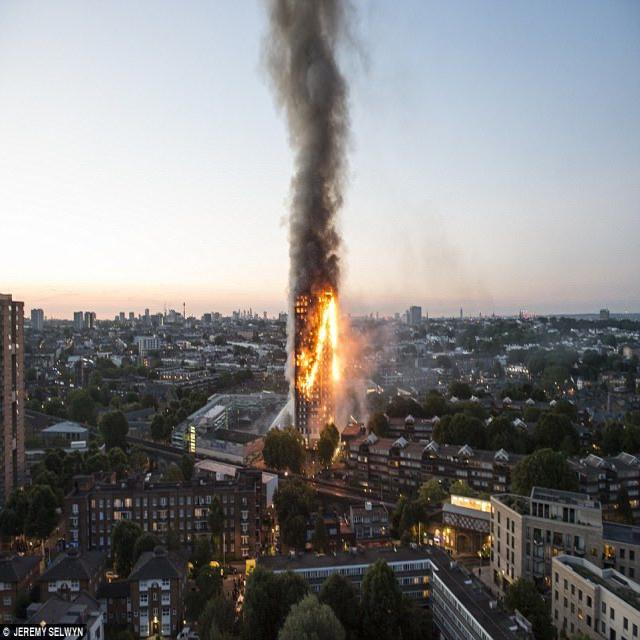Fire: (302, 292, 340, 409)
Smoke: (276, 0, 349, 290)
